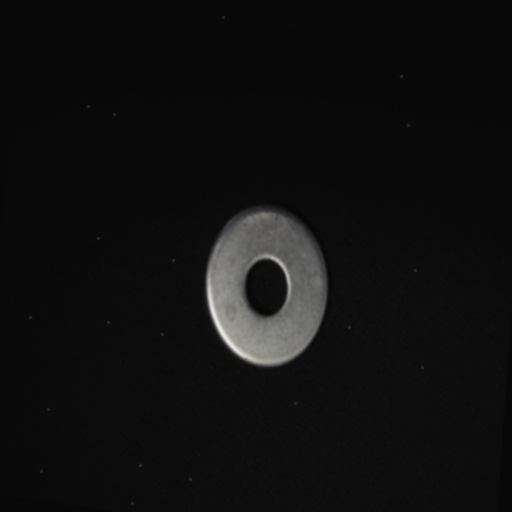Product: (205, 205, 327, 366)
Scratch: (238, 200, 302, 245), (244, 248, 284, 278)
